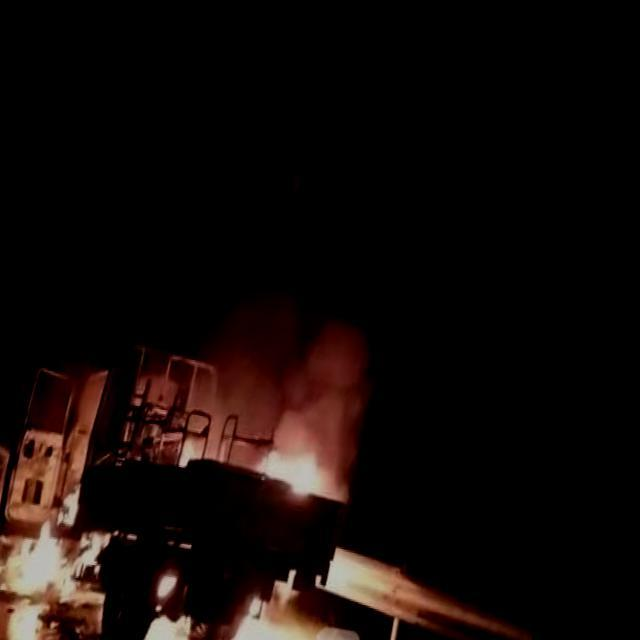Fire: (0, 461, 135, 601), (265, 406, 369, 510)
